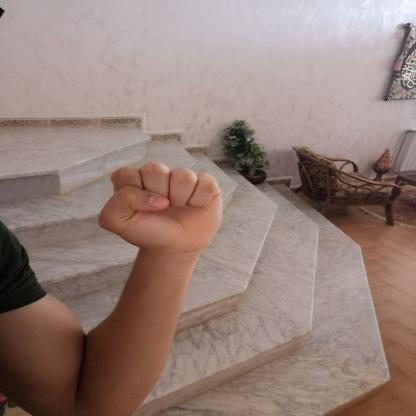SAD: (87, 151, 233, 261)
